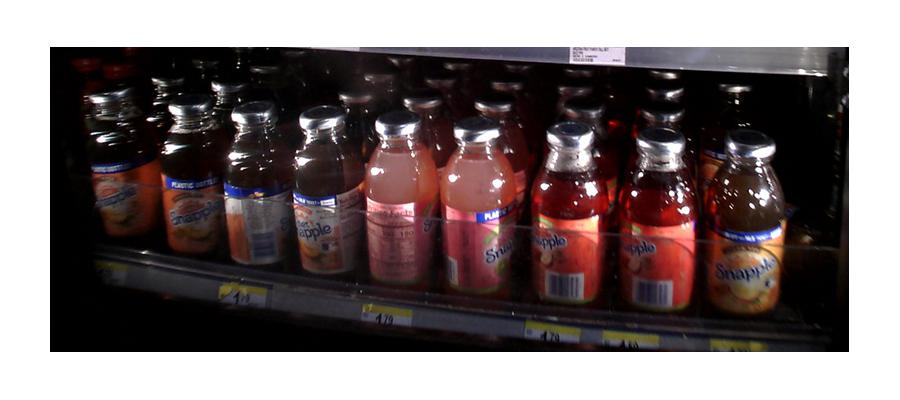bottle: (704, 126, 785, 319), (532, 119, 610, 309), (620, 125, 696, 318), (440, 113, 517, 298), (366, 109, 434, 297), (293, 105, 363, 284), (88, 85, 158, 246), (226, 102, 290, 273), (161, 96, 224, 257)
